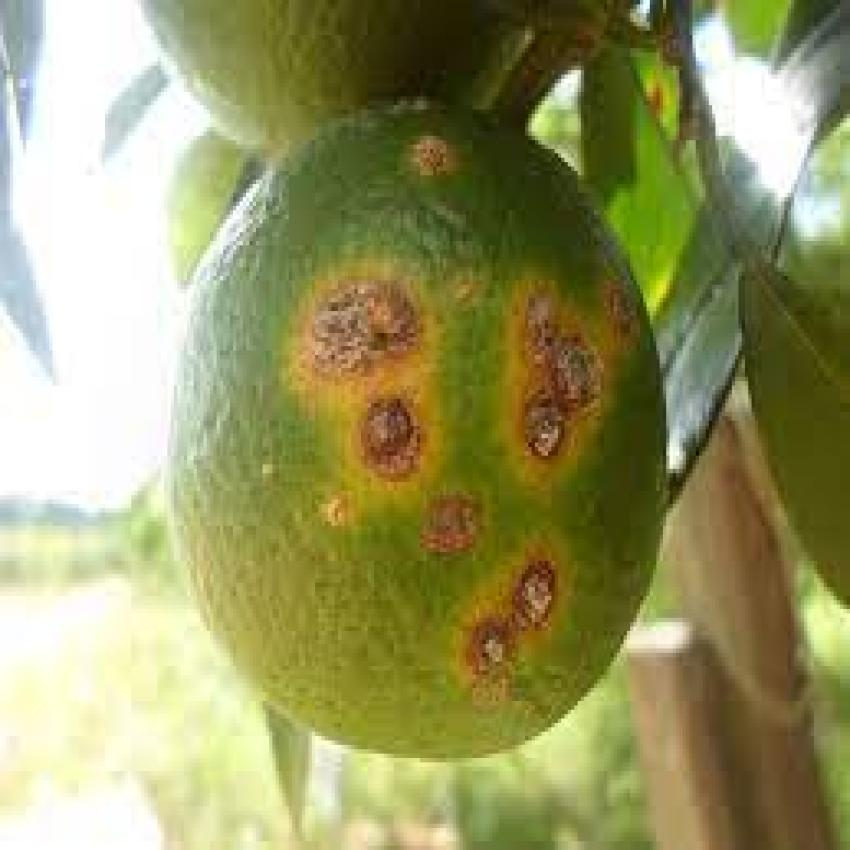Mal estado: (165, 88, 671, 774)
